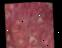plaque psoriasis: (1, 0, 57, 48)
